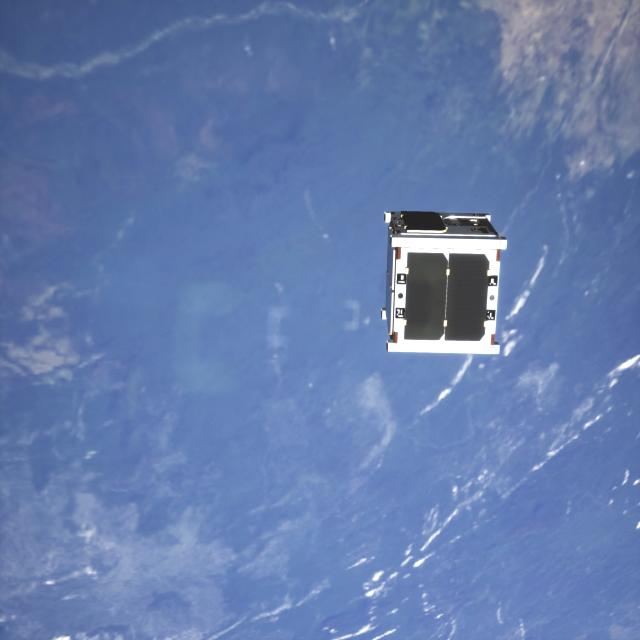satellite: (373, 206, 516, 356)
